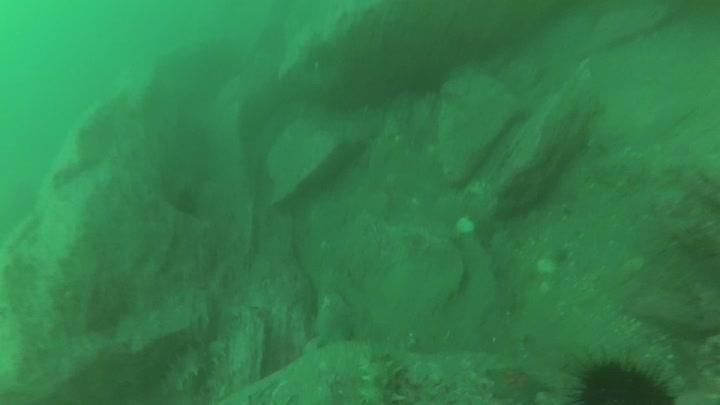echinus: (568, 352, 677, 404), (169, 185, 203, 219)
holothurian: (160, 337, 225, 395), (354, 349, 406, 405)
starfish: (308, 289, 361, 350), (482, 361, 553, 404)
